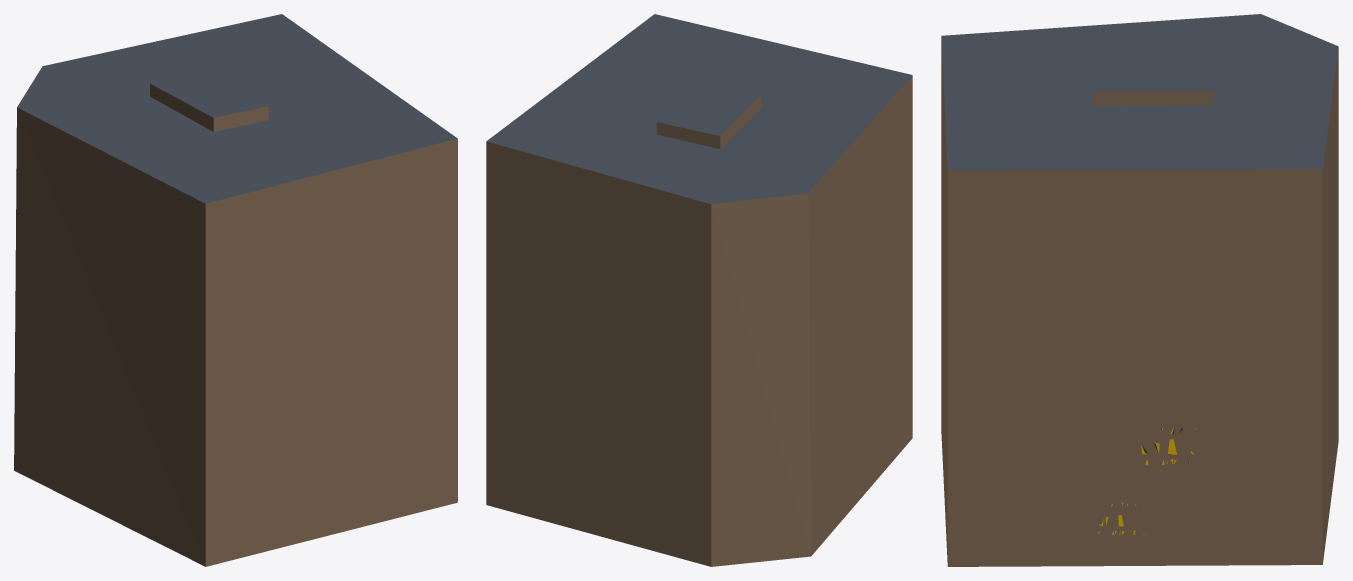
The model's file is kesbeke-shop.lod2.glb.
3 renders of one model, left to right at view 1: azimuth 30°, elevation 25°; view 2: azimuth 150°, elevation 25°; view 3: azimuth 270°, elevation 25°, orthographic. The views are drawn at different scales.
Parts seen in each view (by area): view 1: lod2; view 2: lod2; view 3: lod2.
Boxes of the visible parts, <box> form: lod2: <box>14,14,457,566</box>; lod2: <box>486,14,912,566</box>; lod2: <box>941,14,1338,566</box>.
Bounding box in the file's own units: 13.33 × 15.56 × 13.63.
